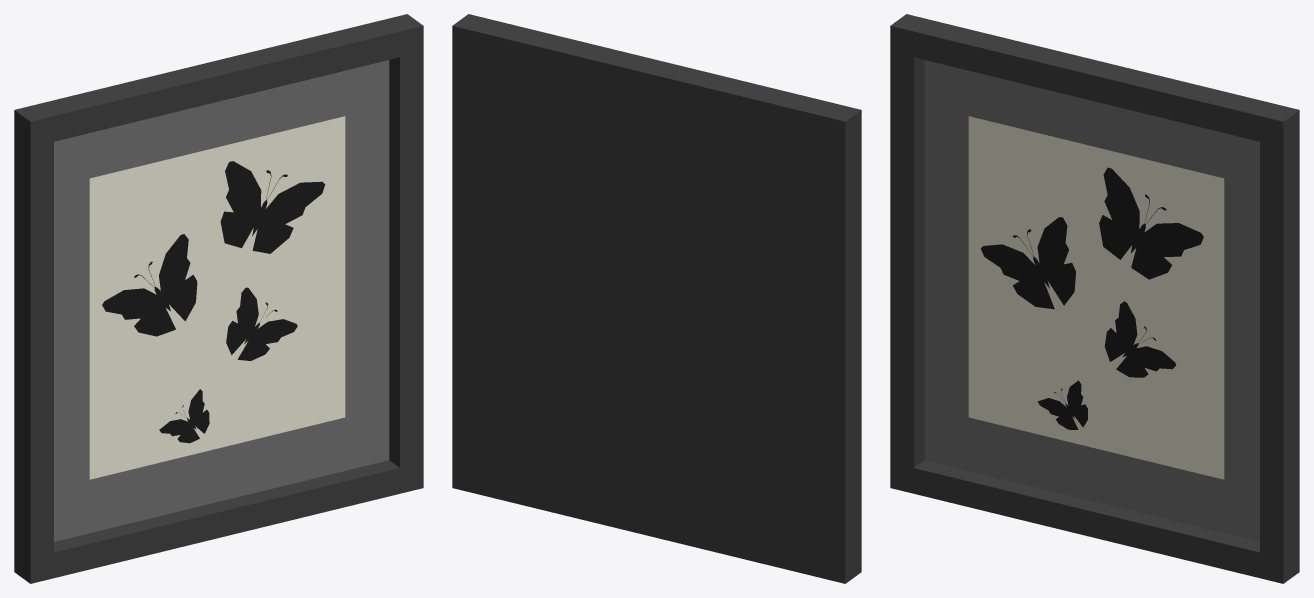
The model's file is picture_027.glb.
The picture shows the model from 3 angles, left to right: view 1: azimuth 30°, elevation 25°; view 2: azimuth 150°, elevation 25°; view 3: azimuth 330°, elevation 25°; orthographic projection.
Visible parts, largest first — view 1: picture_027; view 2: picture_027; view 3: picture_027.
Part boxes in pixels (x1,y1,x2,y2): picture_027: [14, 14, 423, 583]; picture_027: [452, 14, 861, 583]; picture_027: [890, 14, 1299, 583].
Size of the model in its own units: 0.5537 by 0.6221 by 0.0395.
Materials: 1 (1 with a texture image).
